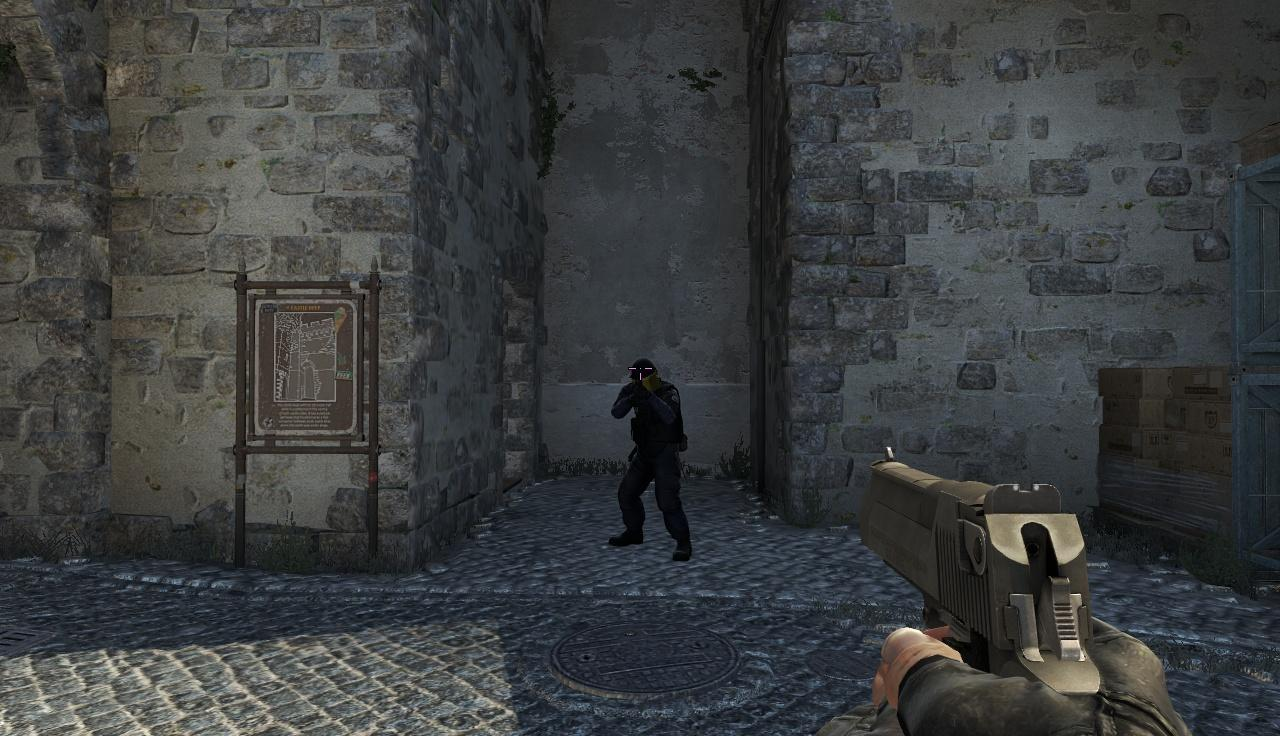ct: (611, 360, 687, 565)
cthead: (630, 361, 660, 393)
pistol: (853, 445, 1197, 736)
